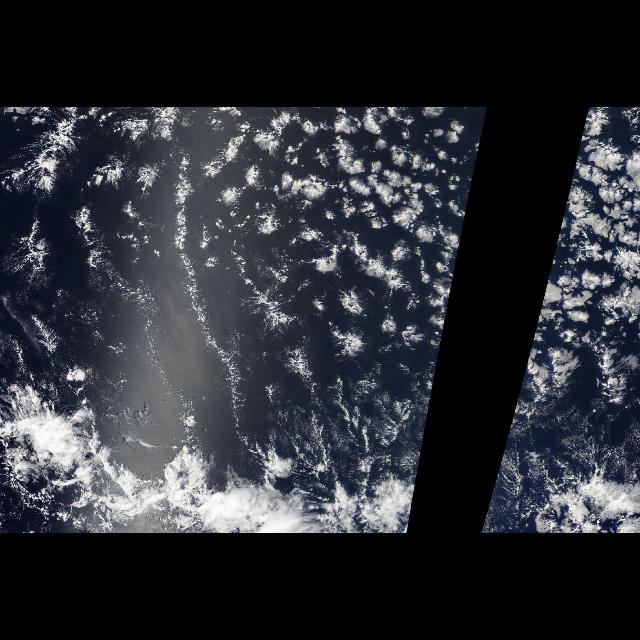Flower: (137, 116, 486, 410), (514, 116, 640, 410)
